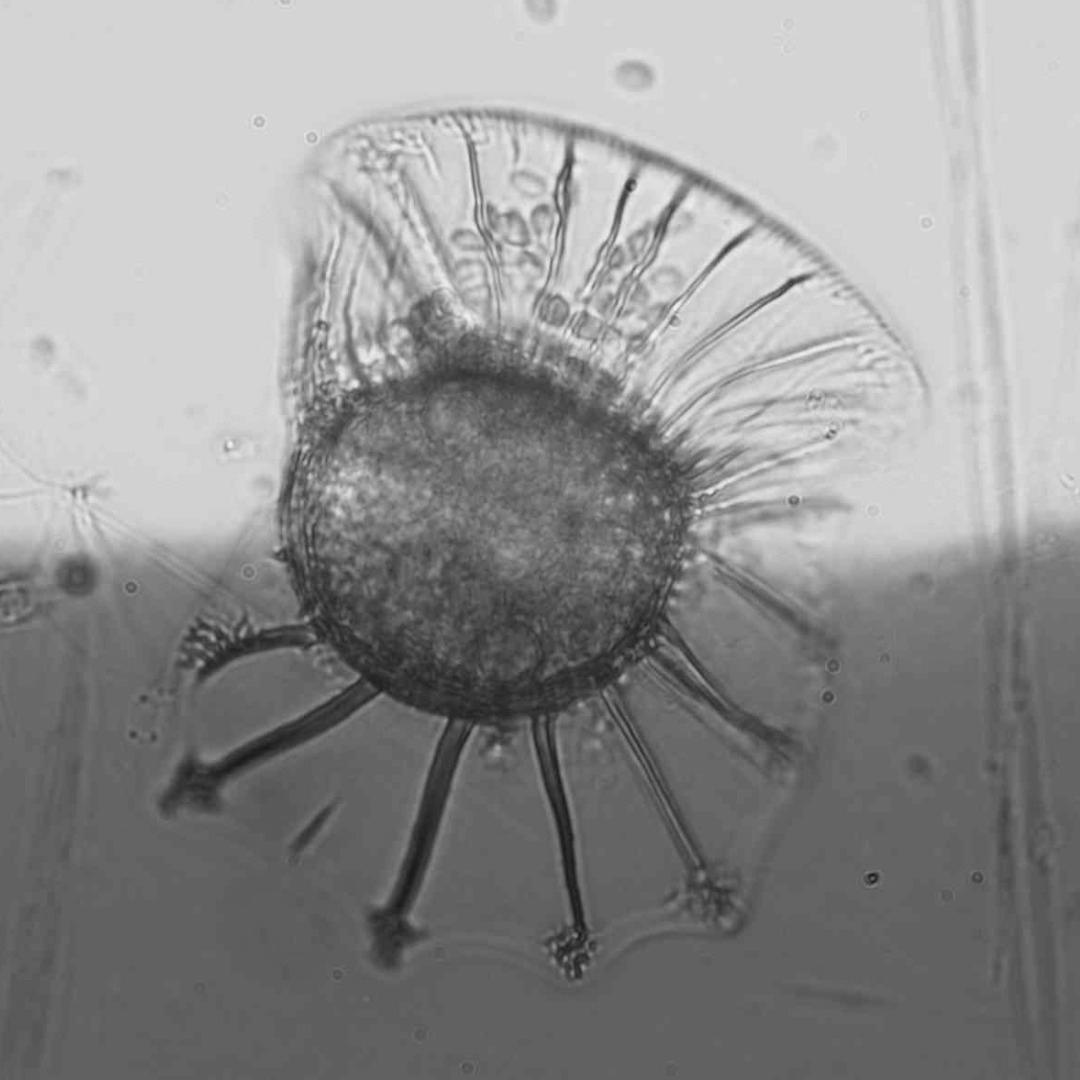ornithocercus_thumii: (154, 110, 936, 989)
